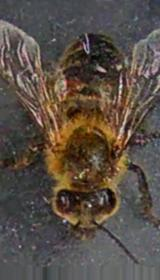varroa_mite: (48, 61, 88, 96)
